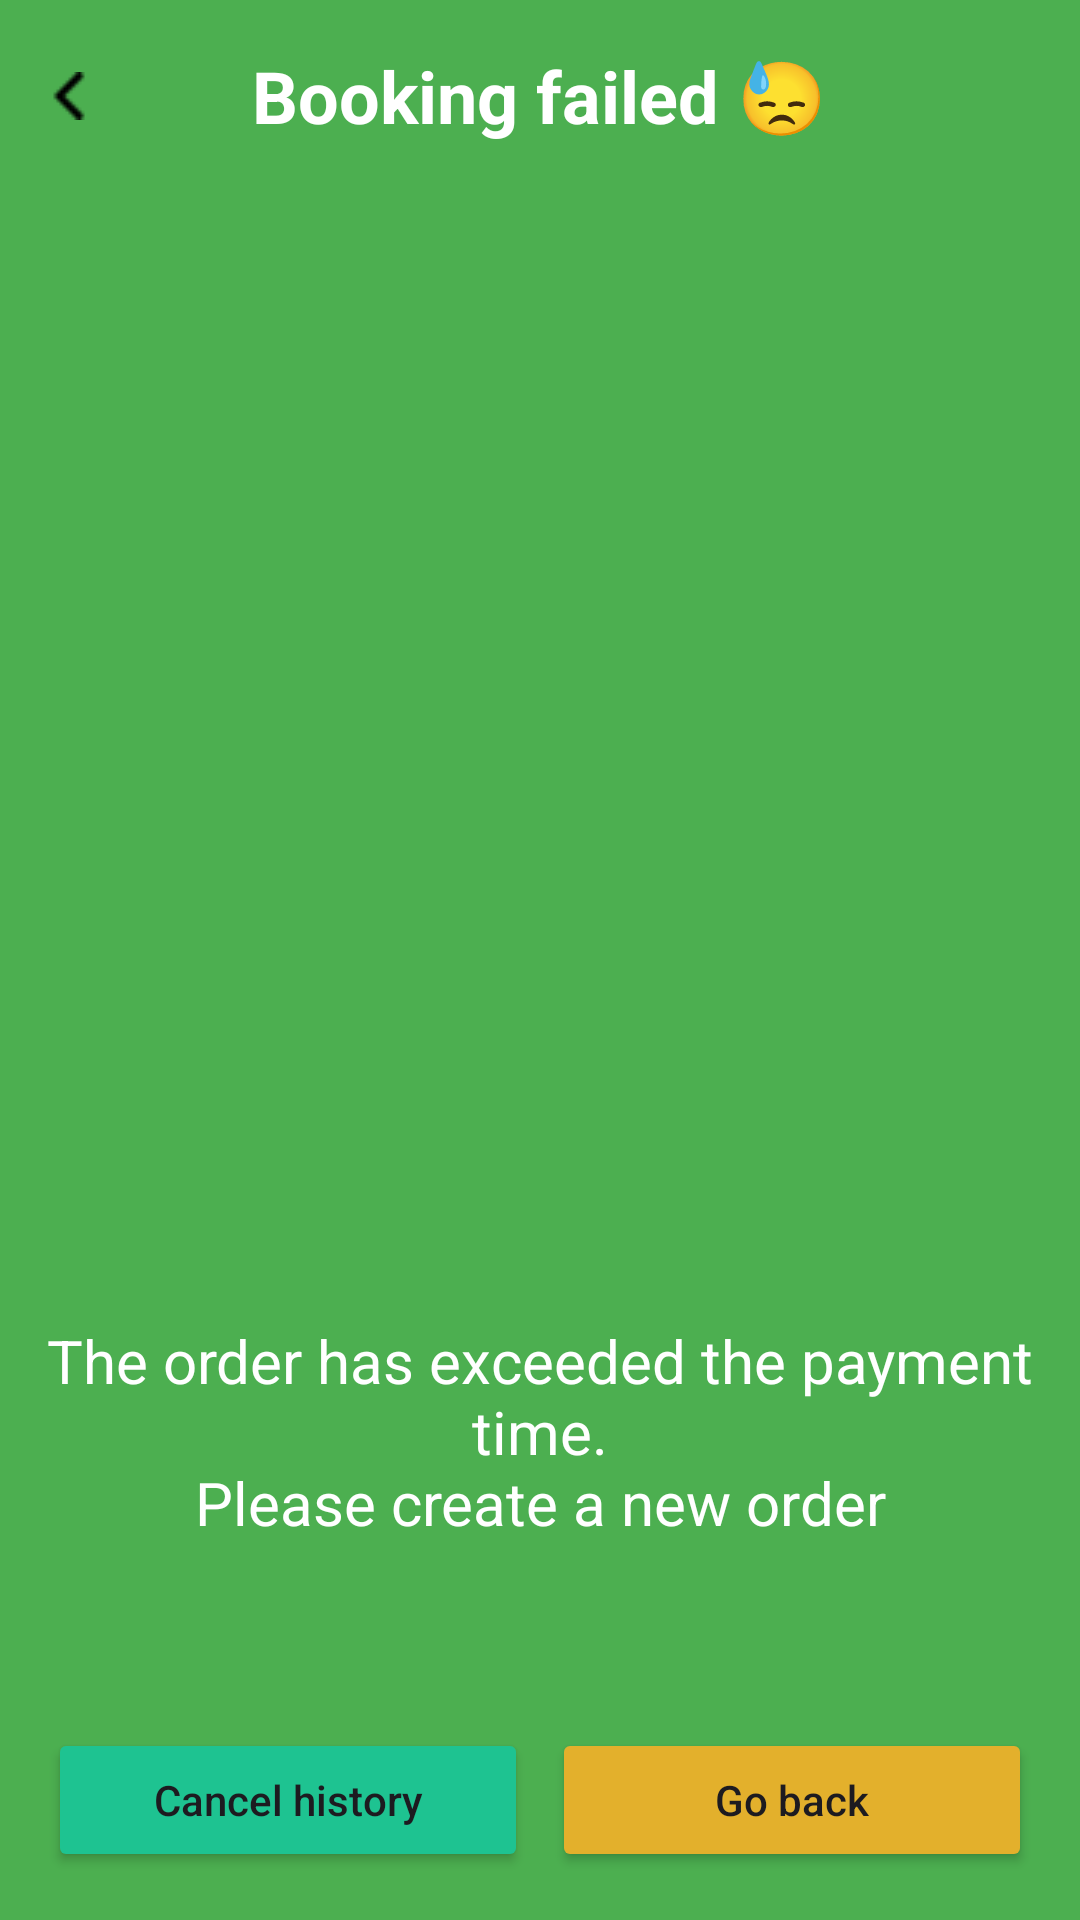

Point at icon controls on the screen. Image size 1080×1920, points as (x,y).
Quay lại: (69,96)
